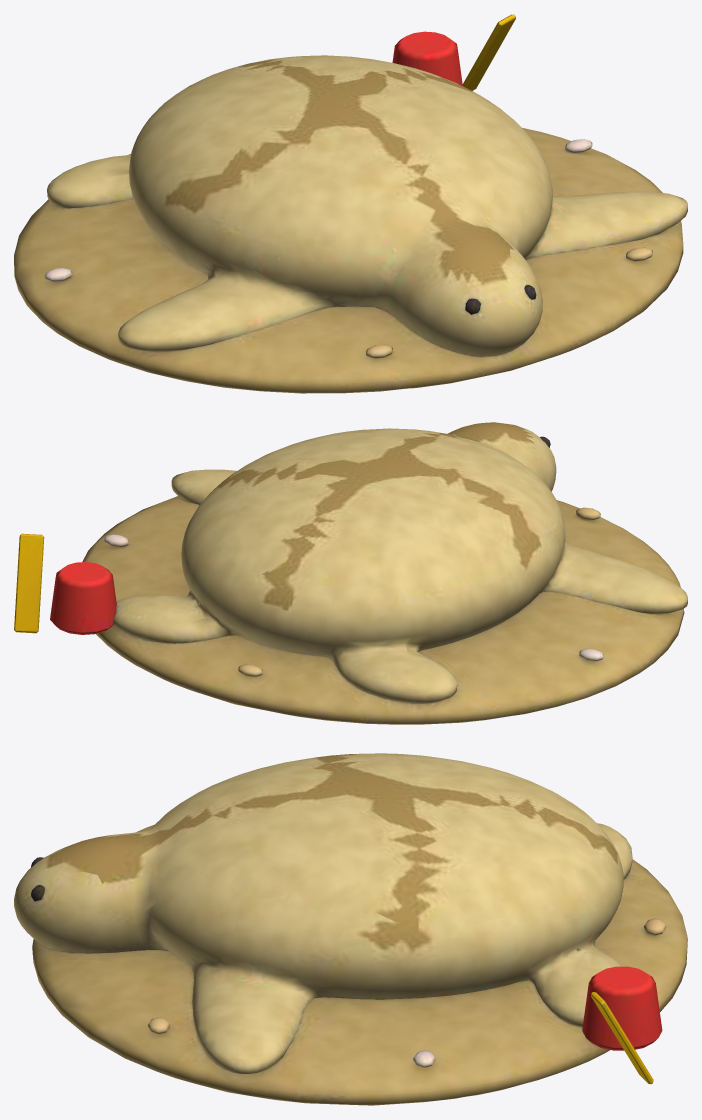
Rendered from sand_turtle.glb.
3 views of the same model, one above another, from view 1: azimuth 30°, elevation 25°; view 2: azimuth 150°, elevation 25°; view 3: azimuth 270°, elevation 25° (orthographic). The views are drawn at different scales.
Visible parts, largest first — view 1: sand_turtle; view 2: sand_turtle; view 3: sand_turtle.
Boxes of the visible parts, left/top/right/bottom form: sand_turtle: left=14, top=14, right=687, bottom=393; sand_turtle: left=14, top=422, right=687, bottom=724; sand_turtle: left=14, top=753, right=687, bottom=1105.
Bounding box in the file's own units: 0.8795 × 0.2612 × 0.8227.
Materials: 1 (1 with a texture image).
